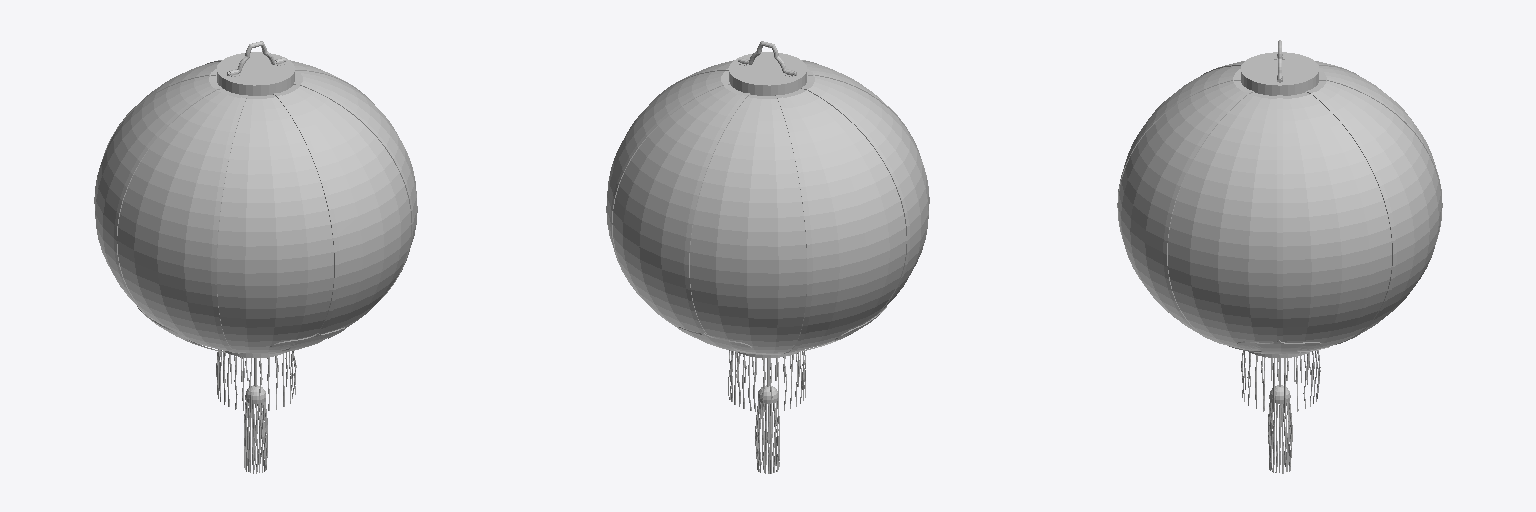
Rendered from lantern3.obj.
3 views of the same model, side by side, from view 1: azimuth 30°, elevation 25°; view 2: azimuth 150°, elevation 25°; view 3: azimuth 270°, elevation 25° (orthographic).
Visible parts, largest first — view 1: chinese_lamp_Sphere.001; view 2: chinese_lamp_Sphere.001; view 3: chinese_lamp_Sphere.001.
Boxes of the visible parts, box(x1,y1,x2,y2) form: chinese_lamp_Sphere.001: box(94, 41, 417, 473); chinese_lamp_Sphere.001: box(606, 41, 929, 473); chinese_lamp_Sphere.001: box(1117, 40, 1442, 473).
Bounding box in the file's own units: 2.01 × 2.9 × 2.01.